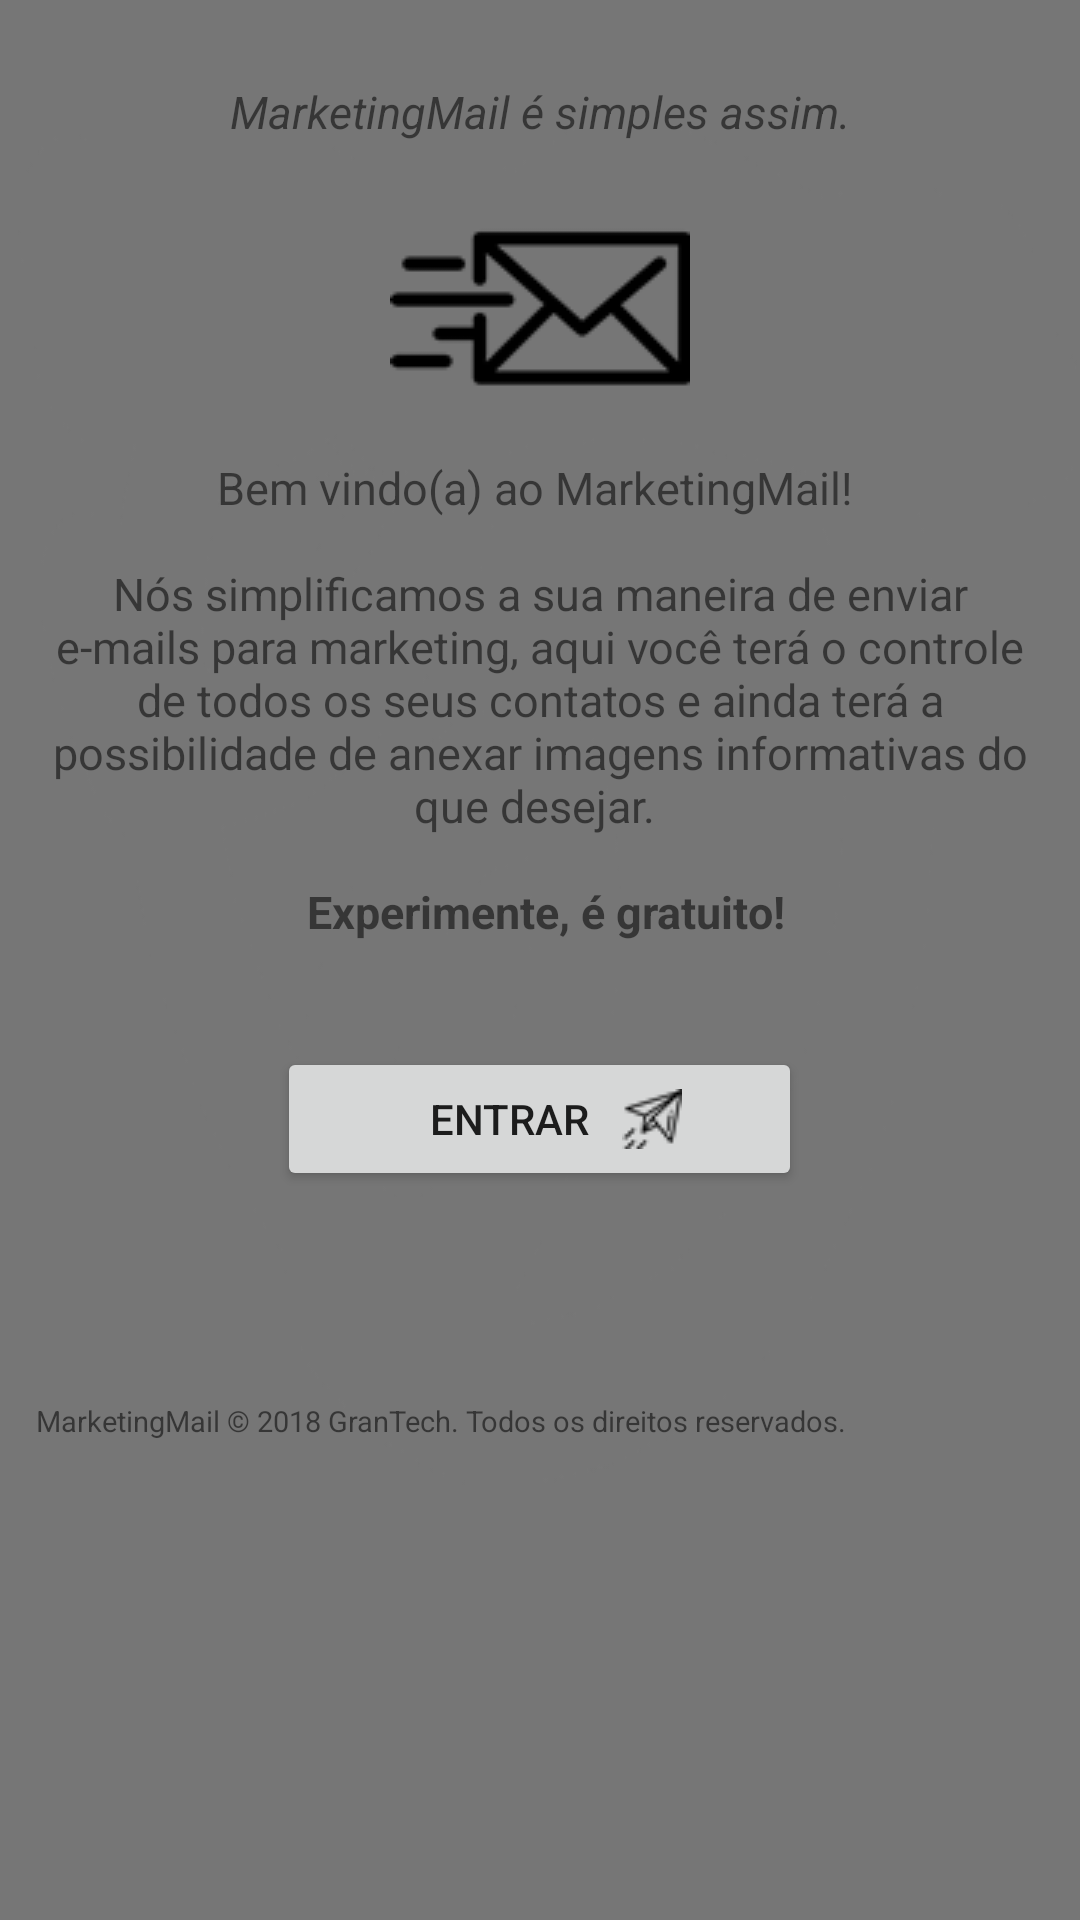

Icons on this 1080w x 1920h Android screen, each with its box as (x1, y1, x2, y2):
iconecarta: (390, 231, 690, 386)
